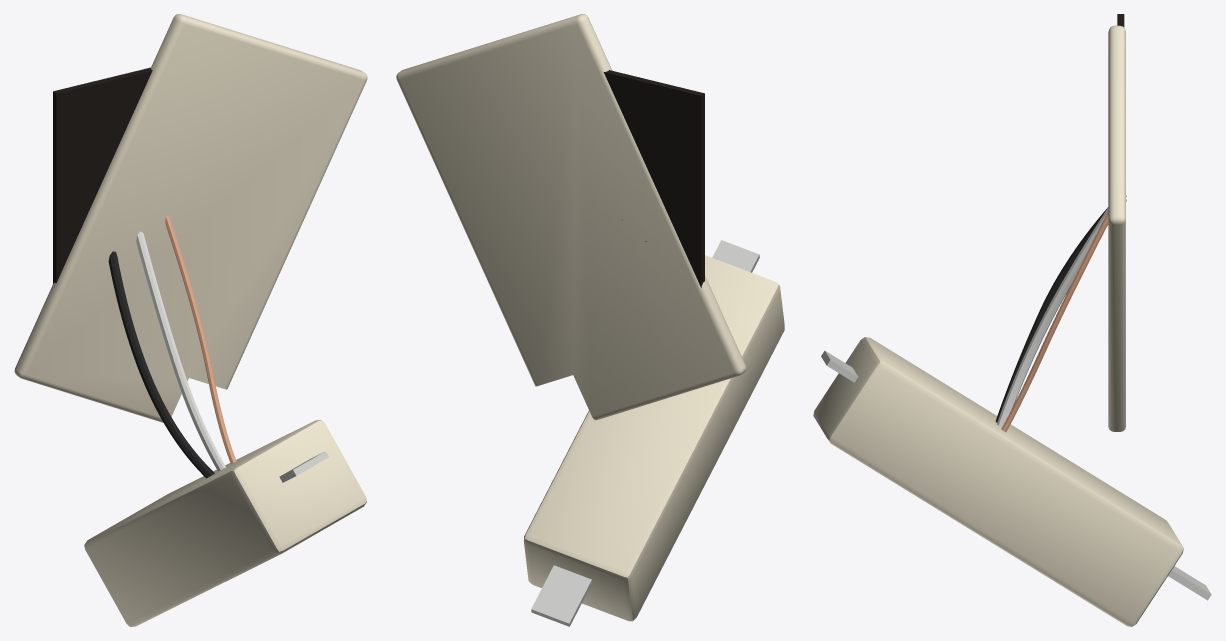
File: outlet_broken.glb
The picture shows the model from 3 angles, left to right: view 1: azimuth 30°, elevation 25°; view 2: azimuth 150°, elevation 25°; view 3: azimuth 270°, elevation 25°; orthographic projection.
Parts seen in each view (by area): view 1: OutletBroken; view 2: OutletBroken; view 3: OutletBroken.
Part boxes in pixels (x1,y1,x2,y2): OutletBroken: (14, 14, 367, 626); OutletBroken: (396, 14, 784, 626); OutletBroken: (813, 14, 1211, 626).
Size of the model in its own units: 0.1141 by 0.1871 by 0.1125.
